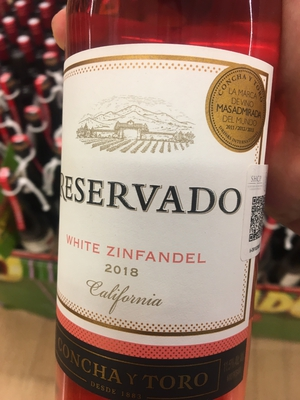reservado white zinfandel: (55, 3, 286, 397)
